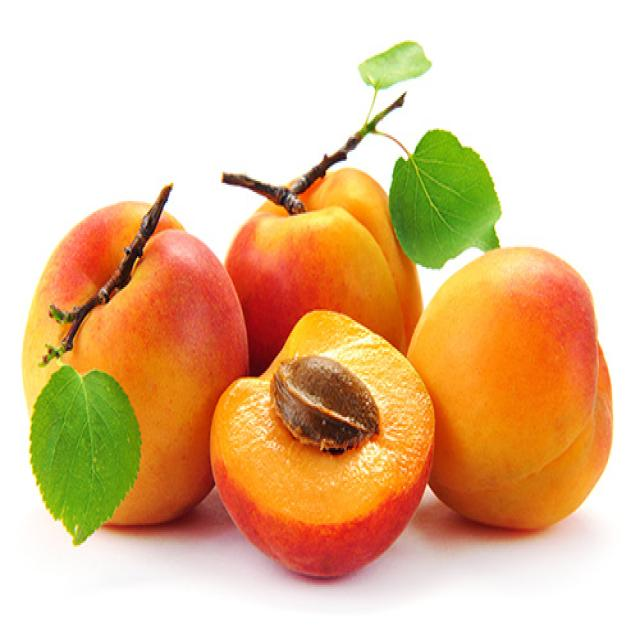cekirdek: (283, 362, 364, 440)
kayisi: (37, 180, 210, 512), (259, 318, 420, 542), (427, 272, 612, 465), (234, 178, 376, 308)
yaprak: (42, 373, 130, 525), (401, 138, 480, 243), (362, 45, 414, 93)
